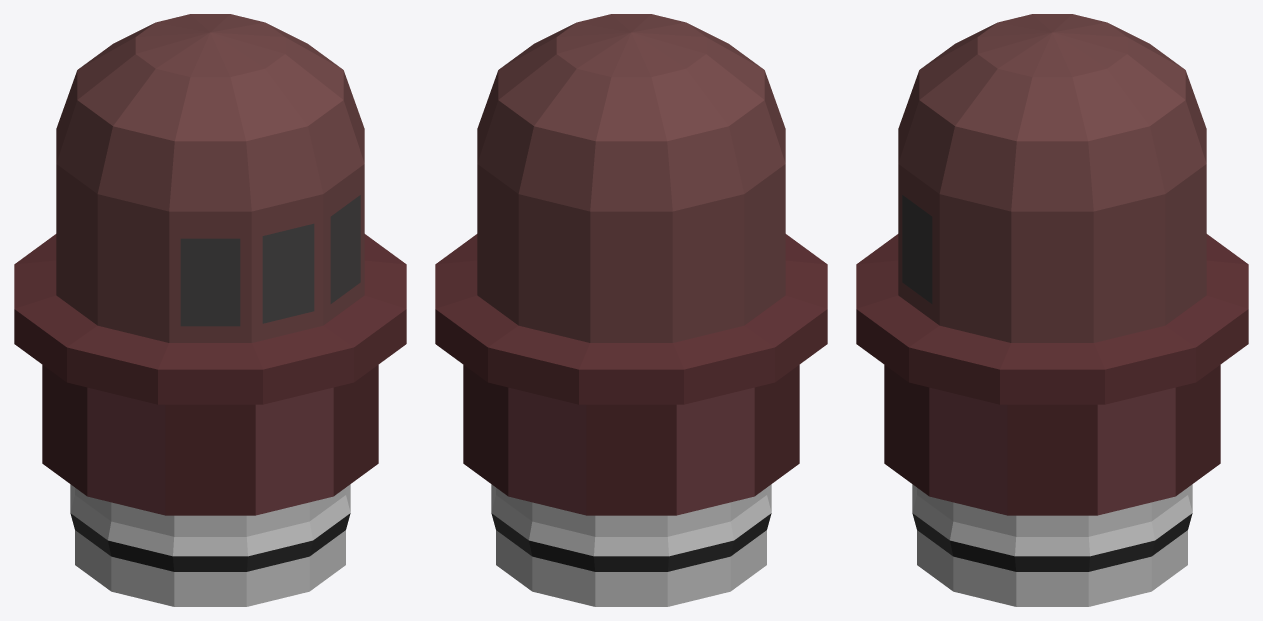
The model's file is vce_pumpjack_arm.obj.
3 renders of one model, left to right at view 1: azimuth 30°, elevation 25°; view 2: azimuth 150°, elevation 25°; view 3: azimuth 270°, elevation 25°, orthographic.
Bounding box in the file's own units: 0.8114 × 1.18 × 0.8114.
